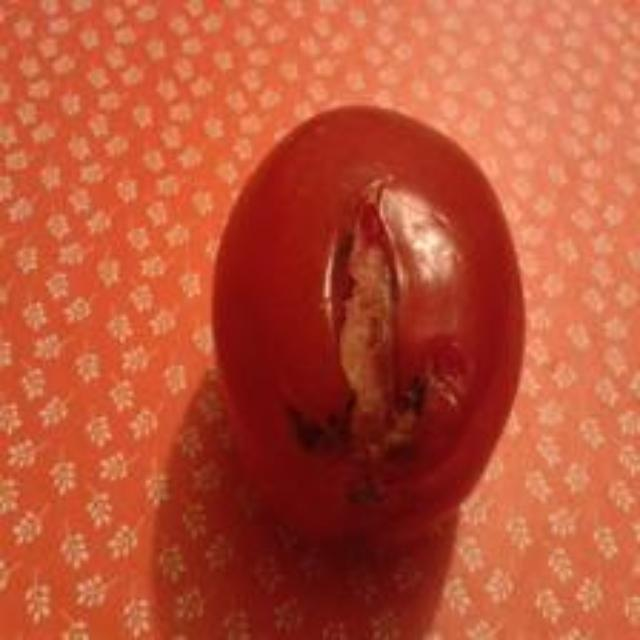defect: (203, 100, 527, 540)
